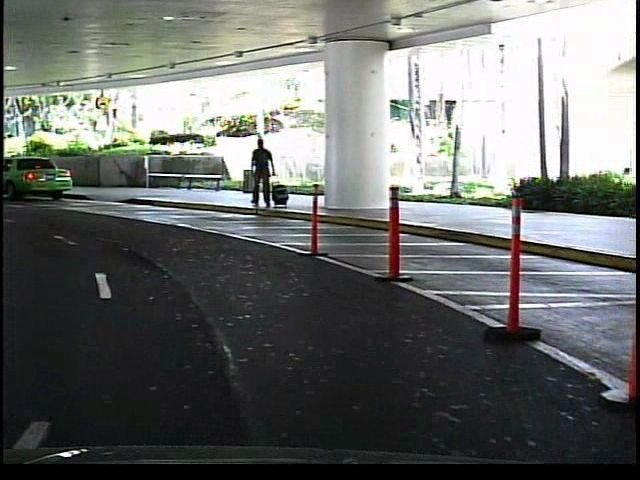person: (246, 133, 279, 212)
